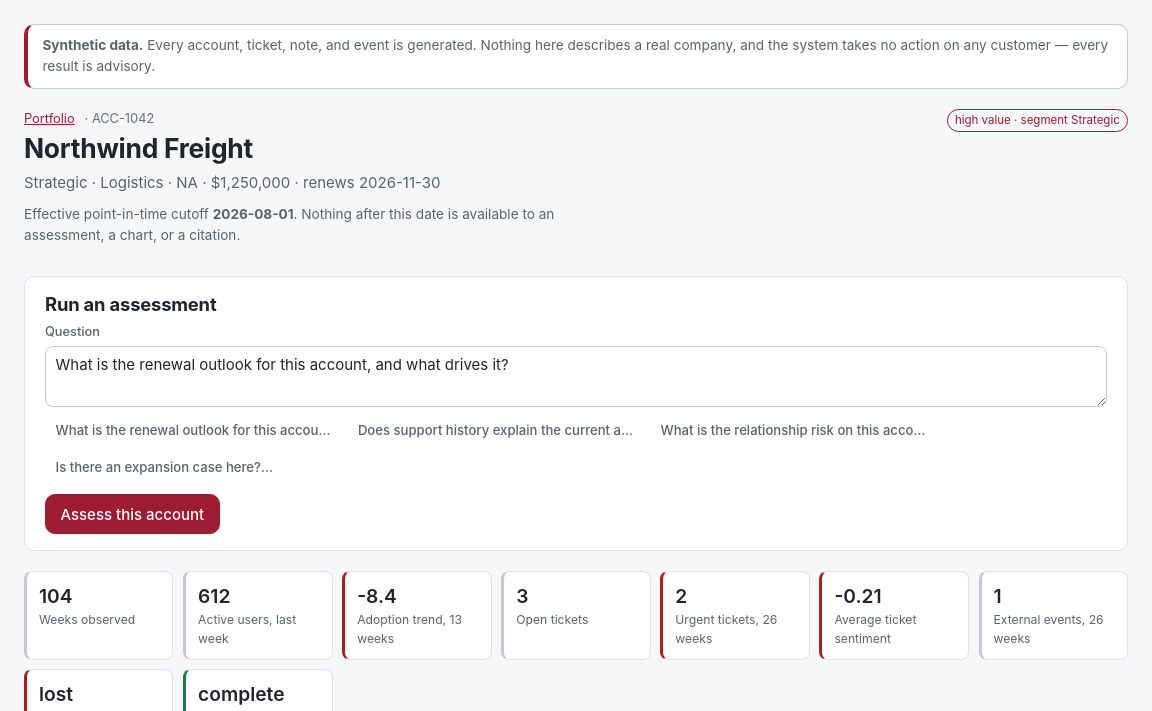
Test case: page branches that only appear when something goes wrong › fills the question box from a preset
Check: the heading "Northwind Freight" is shown, box [24, 132, 253, 164]
Click the button "What is the relationship risk on this acco…": click(793, 431) [650, 415, 936, 446]
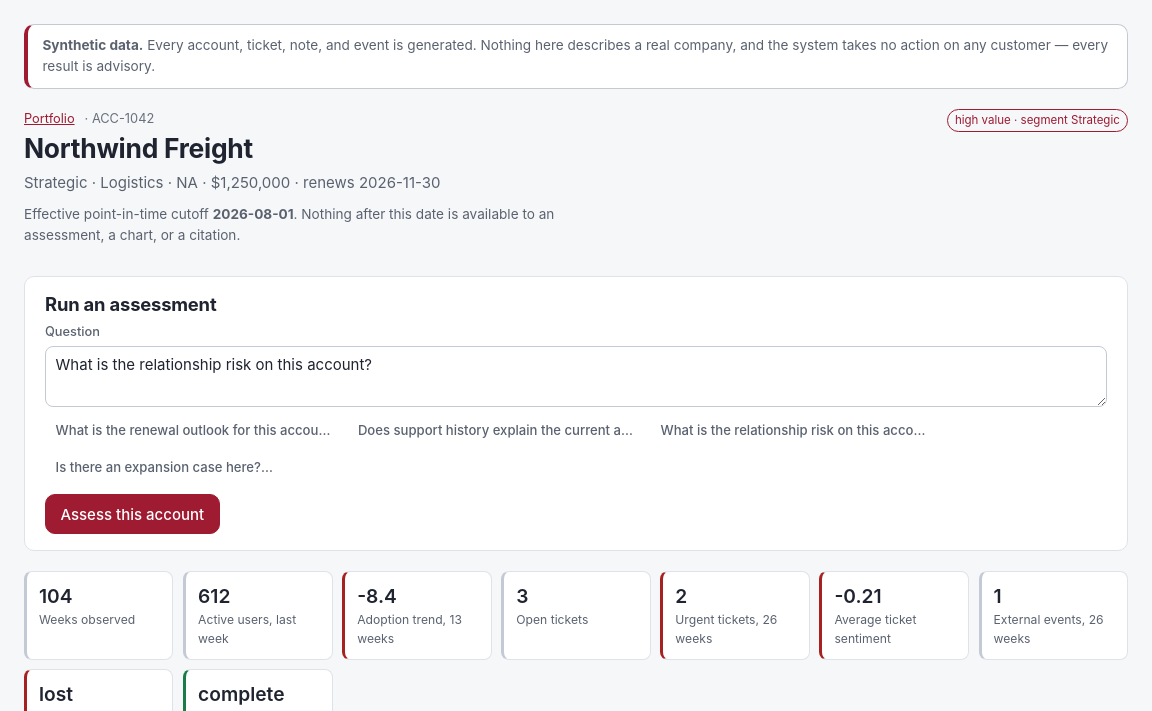
Check: the text box labelled "Question" holds "What is the relationship risk on this account?", box [45, 346, 1107, 407]
